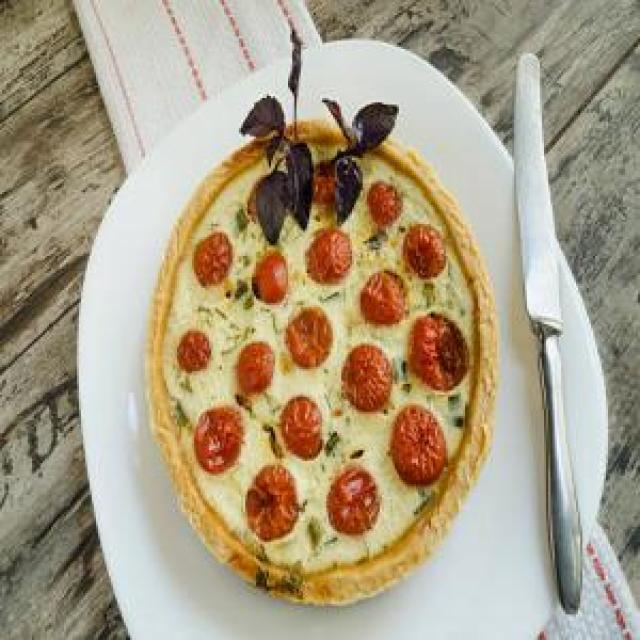knife: (510, 47, 589, 638)
